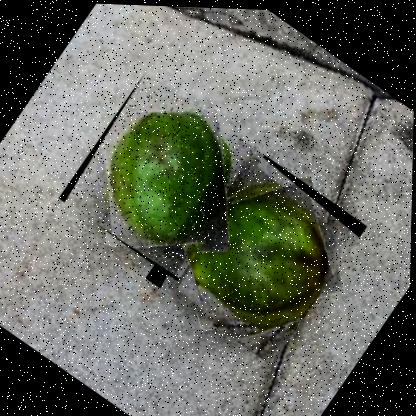guava: (145, 133, 370, 366), (57, 67, 267, 282)
